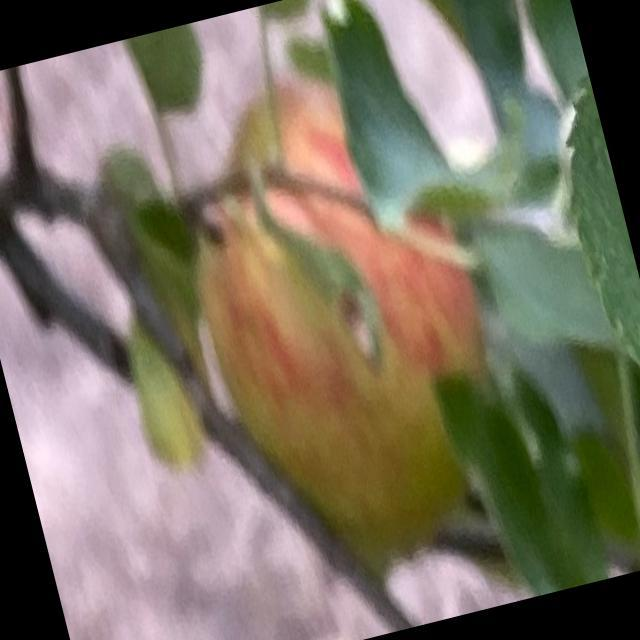100-_ripeness: (155, 50, 524, 569)
